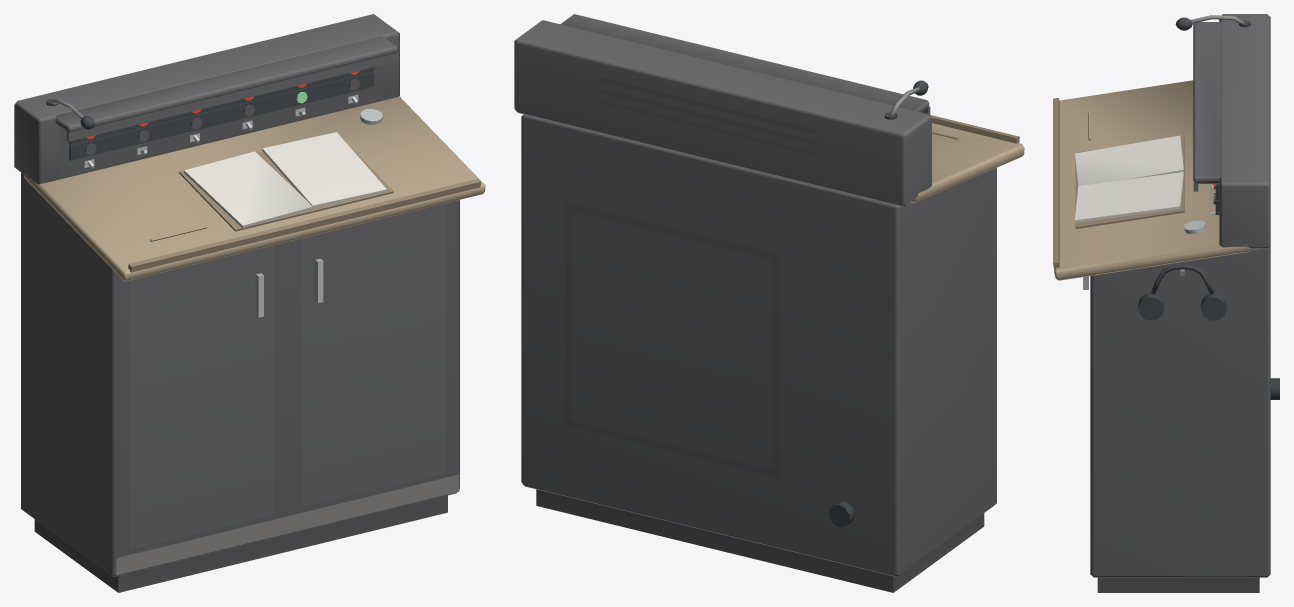
File: prompt_desk.glb
3 renders of one model, left to right at view 1: azimuth 30°, elevation 25°; view 2: azimuth 150°, elevation 25°; view 3: azimuth 270°, elevation 25°, orthographic. The views are drawn at different scales.
Visible parts, largest first — view 1: theater_prompt_desk; view 2: theater_prompt_desk; view 3: theater_prompt_desk.
Part boxes in pixels (bbox=[...]): theater_prompt_desk: bbox=[14, 14, 485, 592]; theater_prompt_desk: bbox=[514, 14, 1024, 592]; theater_prompt_desk: bbox=[1053, 14, 1279, 592].
Size of the model in its own units: 1.11 by 1.28 by 0.6164.
